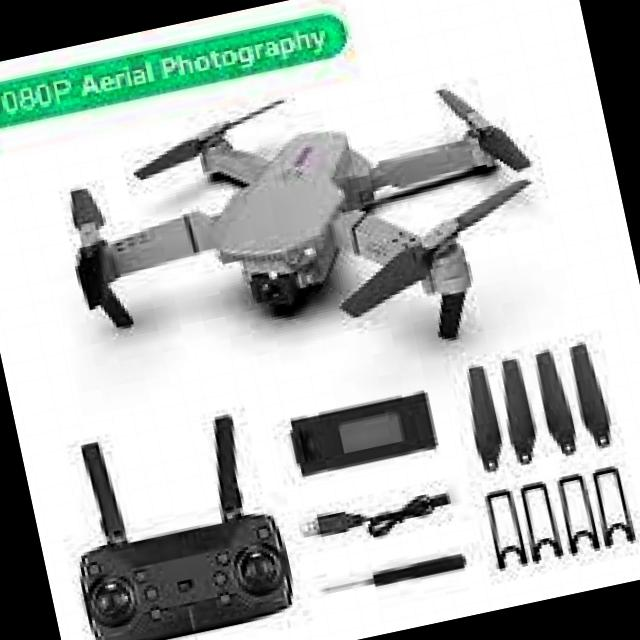drone: (36, 42, 572, 431)
